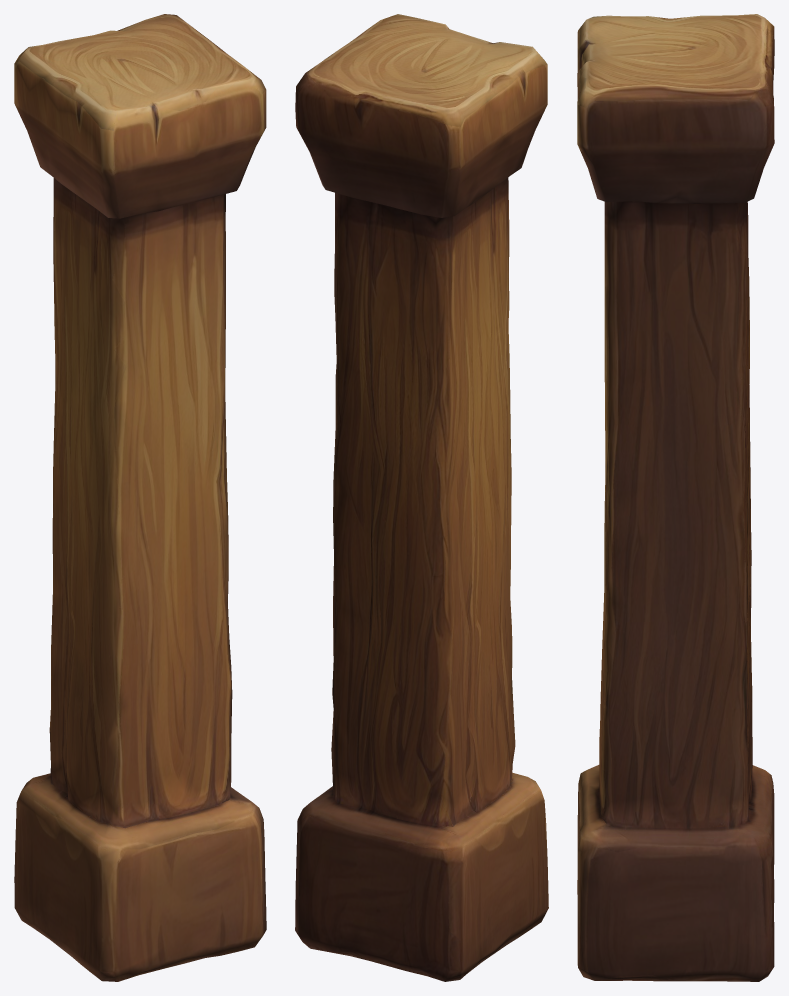
File: SM_Env_Pillar.fbx
3 renders of one model, left to right at view 1: azimuth 30°, elevation 25°; view 2: azimuth 150°, elevation 25°; view 3: azimuth 270°, elevation 25°, orthographic. The views are drawn at different scales.
Parts seen in each view (by area): view 1: SM_Env_Pillar; view 2: SM_Env_Pillar; view 3: SM_Env_Pillar.
Part boxes in pixels (left/top/right/bottom): SM_Env_Pillar: left=14, top=14, right=266, bottom=981; SM_Env_Pillar: left=295, top=14, right=548, bottom=981; SM_Env_Pillar: left=577, top=14, right=774, bottom=981.
Bounding box in the file's own units: 0.6 × 3 × 0.6.
